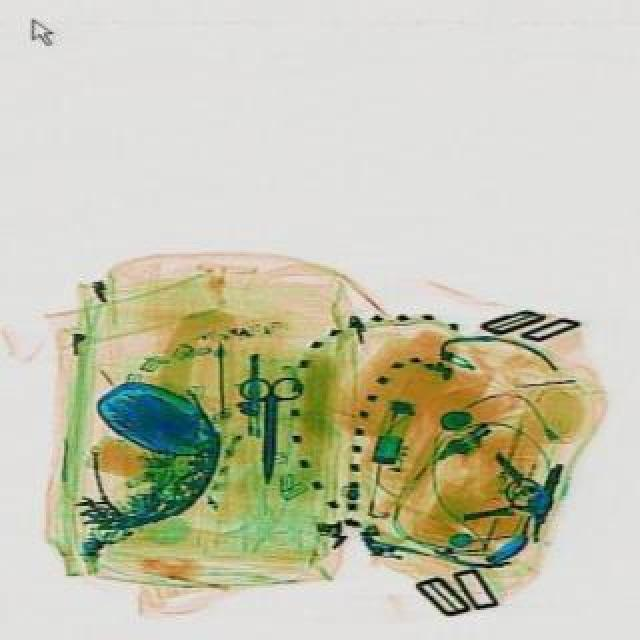pliers: (236, 376, 298, 484)
